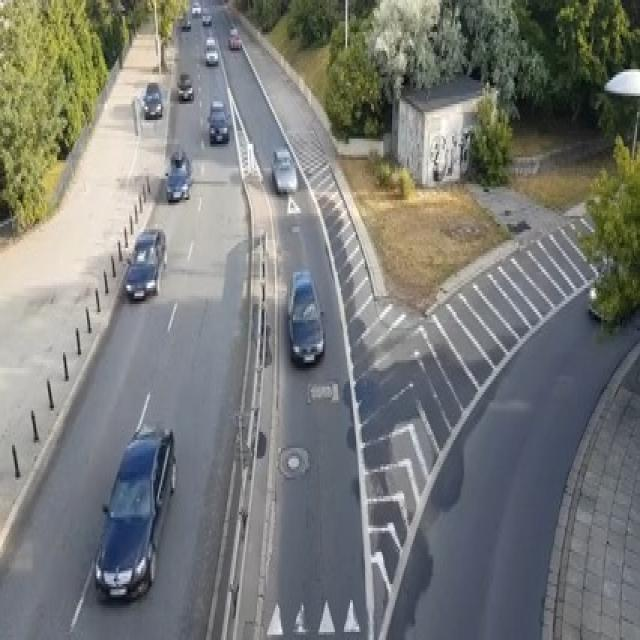car: (93, 421, 176, 600), (287, 270, 324, 366), (125, 226, 167, 298), (588, 253, 618, 320), (164, 147, 192, 200), (132, 226, 167, 266), (270, 146, 298, 194), (124, 261, 158, 299), (208, 99, 228, 144), (141, 80, 162, 117), (177, 72, 194, 101), (204, 35, 218, 64), (227, 27, 240, 48), (180, 11, 191, 29), (191, 0, 201, 16), (201, 11, 212, 24)
